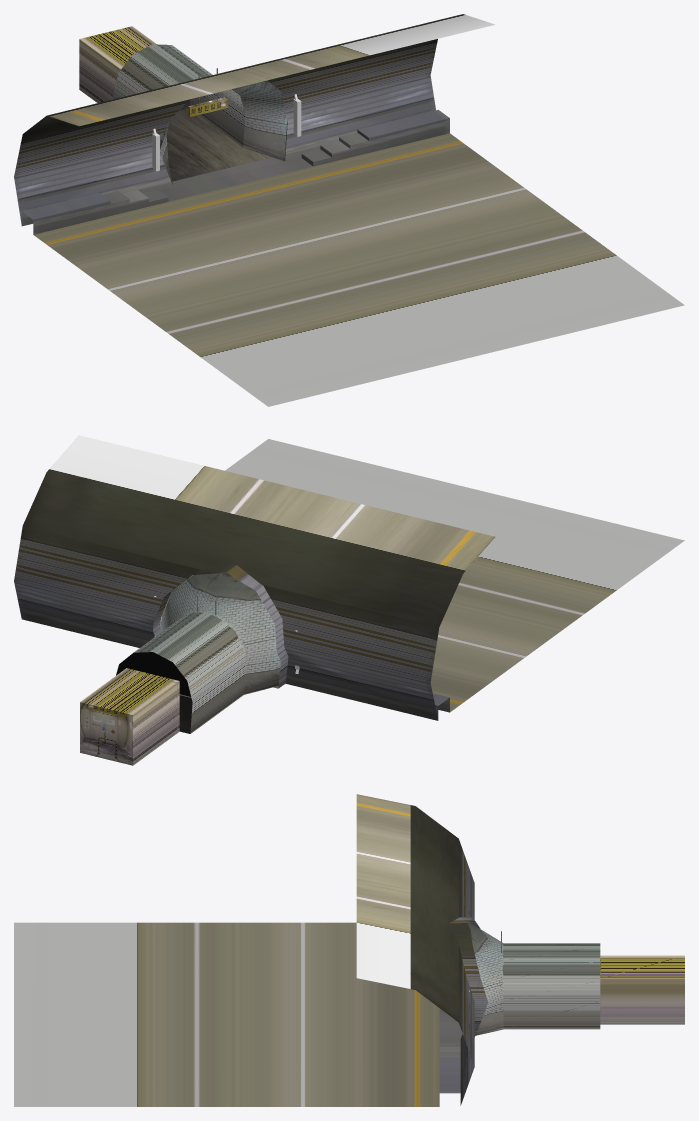
The model's file is tunnel.fbx.
3 views of the same model, one above another, from view 1: azimuth 30°, elevation 25°; view 2: azimuth 150°, elevation 25°; view 3: azimuth 270°, elevation 25° (orthographic). The views are drawn at different scales.
Visible parts, largest first — view 1: Cylinder001, Cylinder003; view 2: Cylinder001, Cylinder003; view 3: Cylinder001, Cylinder003.
Part boxes in pixels (<box>): Cylinder001: <box>14,14,684,406</box>; Cylinder003: <box>79,26,287,185</box>; Cylinder001: <box>14,435,684,720</box>; Cylinder003: <box>80,572,287,765</box>; Cylinder001: <box>14,794,487,1106</box>; Cylinder003: <box>467,922,684,1035</box>.
Size of the model in its own units: 2707 by 882 by 4170.
